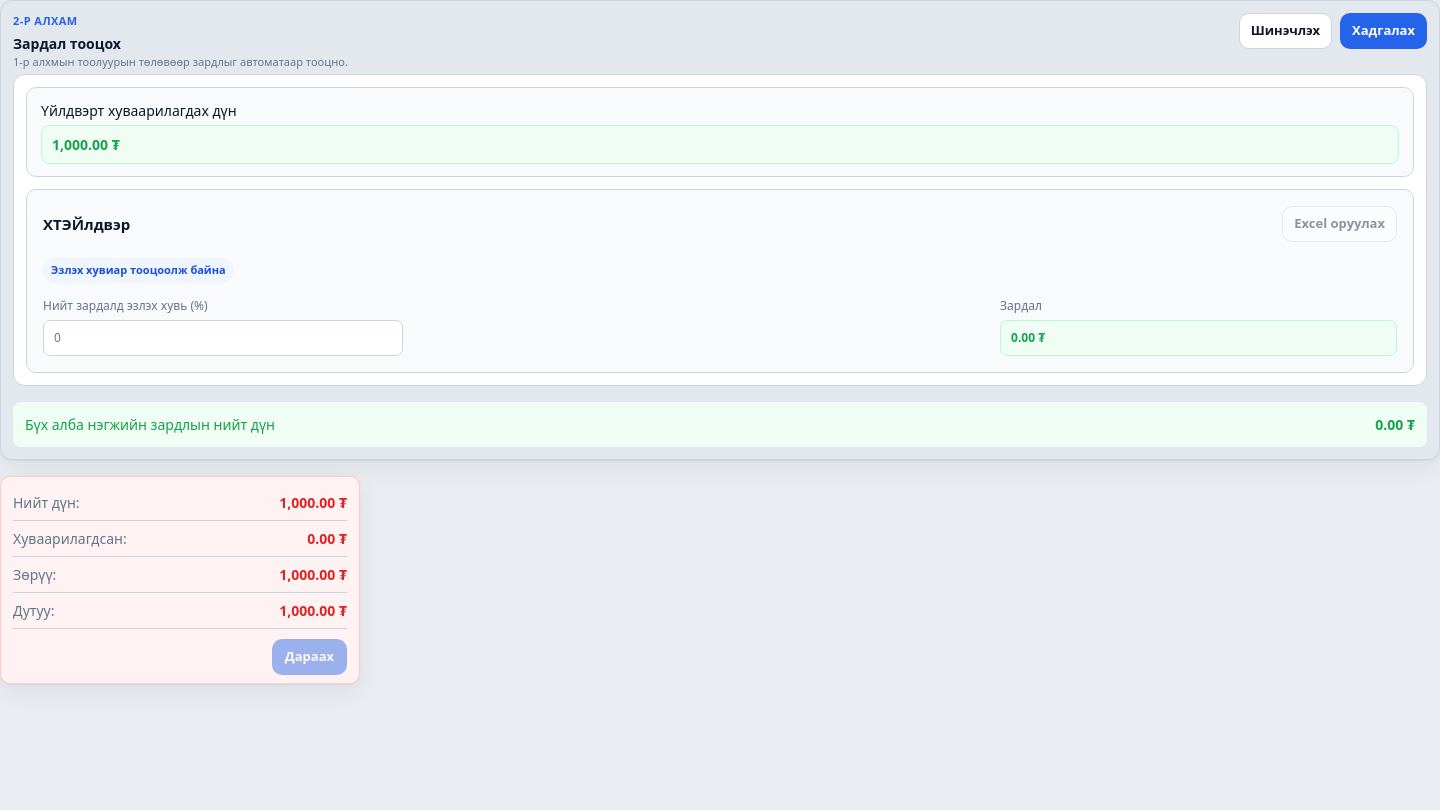
Step1BaseInput › импорт хадгалсны дараа ч ХТЭЙлдвэрийн ерөнхий Зардал талбар харагдана
Type "100" into the number field named "ХТЭЙлдвэр нийт зардалд эзлэх хувь" at (223, 338), box [43,320,403,356]
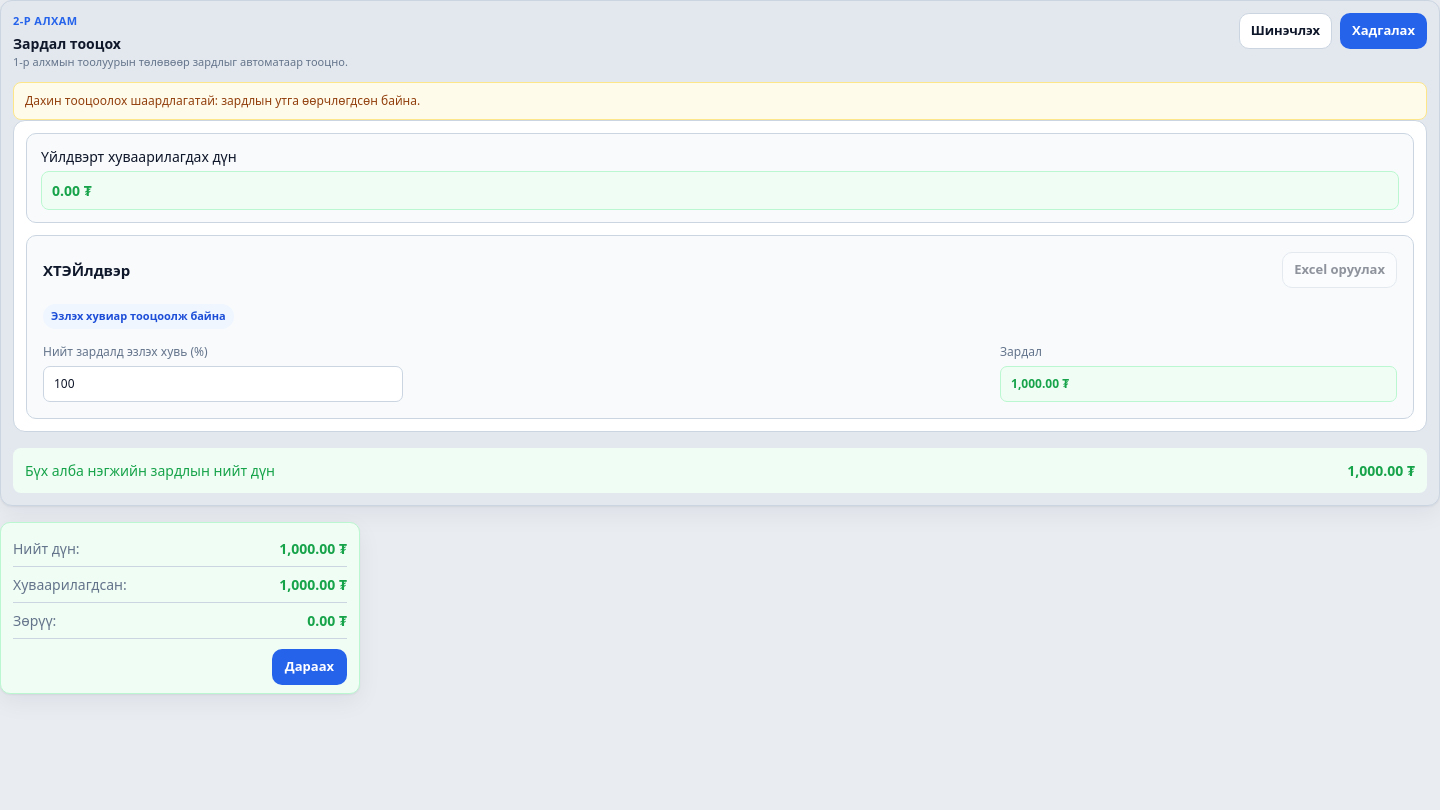
Check: the field showing "1,000.00 ₮" is shown, box [1000,366,1397,402]
